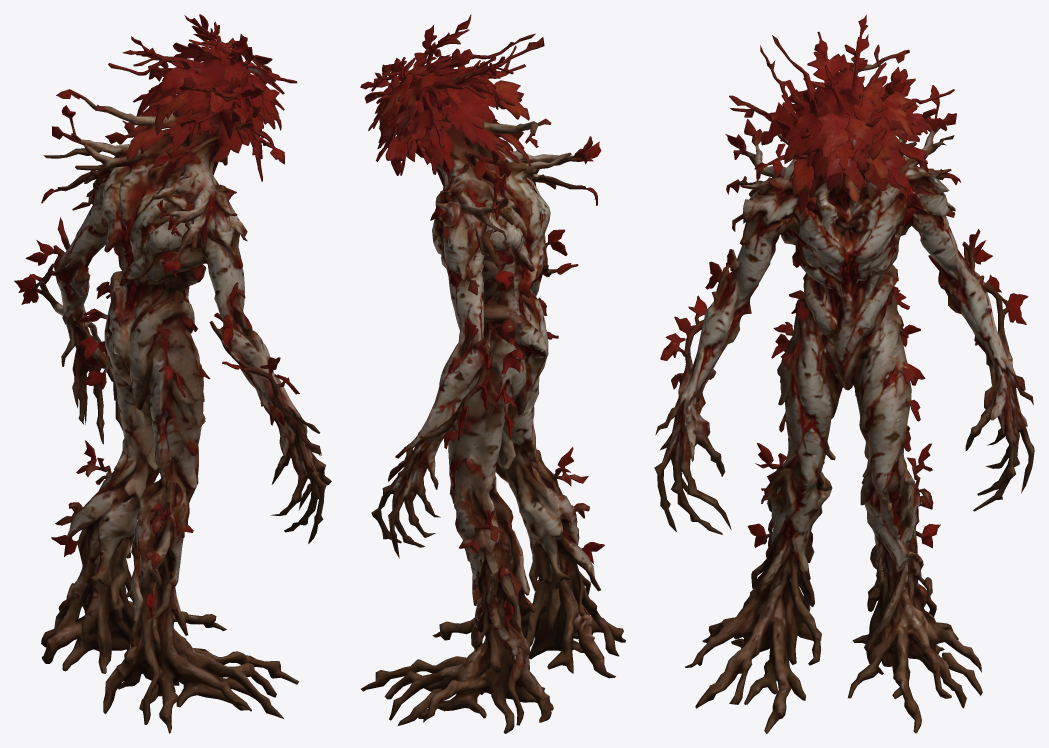
File: RedTreant-tripo.glb
3 views of the same model, side by side, from view 1: azimuth 30°, elevation 25°; view 2: azimuth 150°, elevation 25°; view 3: azimuth 270°, elevation 25° (orthographic). The views are drawn at different scales.
Visible parts, largest first — view 1: tripo_node_146b6dff-73ce-4352-a9b1-196f75881564; view 2: tripo_node_146b6dff-73ce-4352-a9b1-196f75881564; view 3: tripo_node_146b6dff-73ce-4352-a9b1-196f75881564.
Part boxes in pixels (bbox=[...]): tripo_node_146b6dff-73ce-4352-a9b1-196f75881564: bbox=[14, 14, 331, 733]; tripo_node_146b6dff-73ce-4352-a9b1-196f75881564: bbox=[360, 14, 625, 733]; tripo_node_146b6dff-73ce-4352-a9b1-196f75881564: bbox=[654, 14, 1034, 733].
Bounding box in the file's own units: 0.3596 × 1 × 0.513.
Materials: 1 (1 with a texture image).
